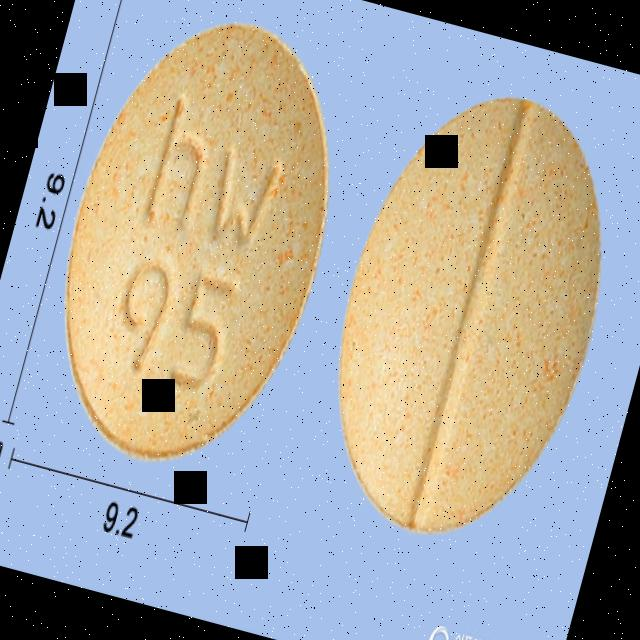Doxy: (17, 0, 376, 492)
